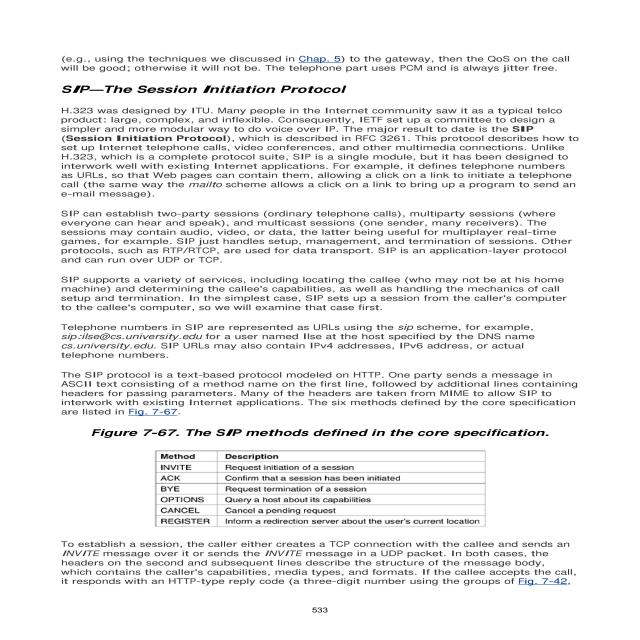diagram: (55, 419, 592, 534)
